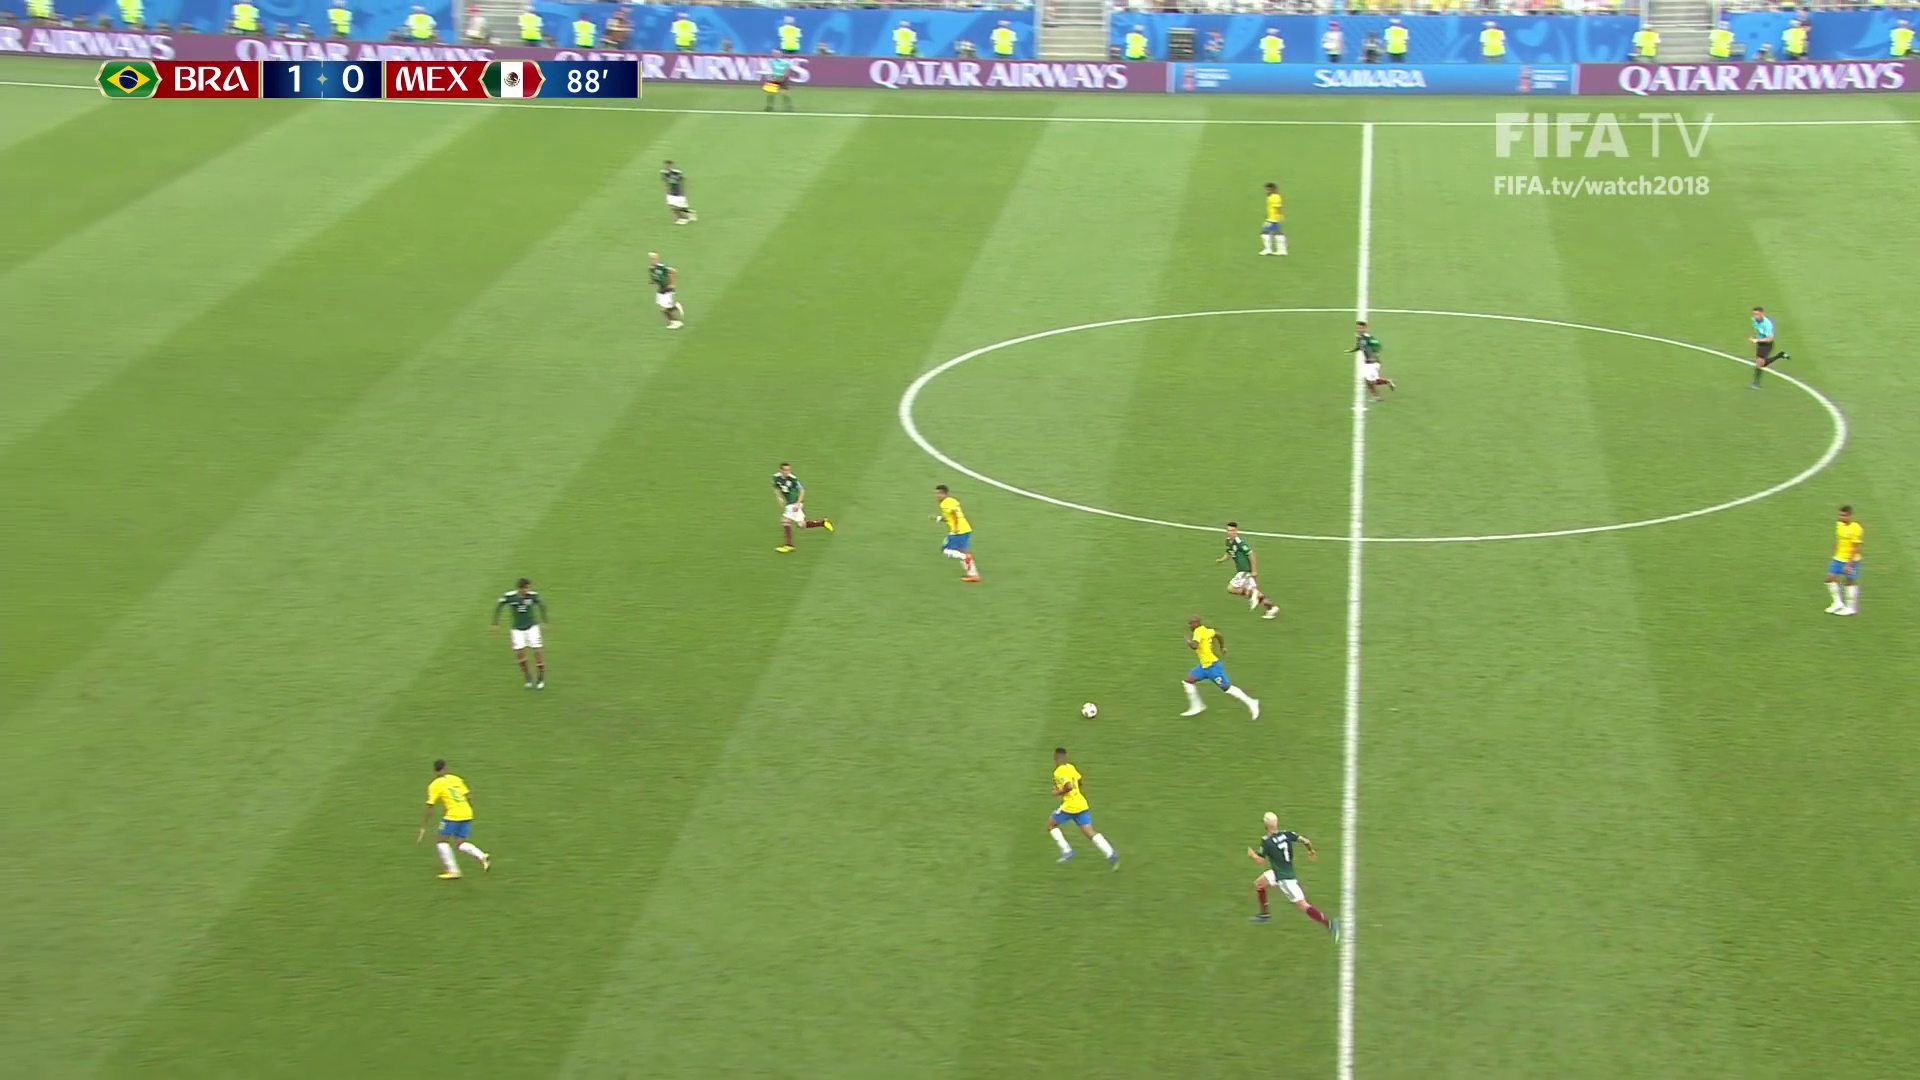ball: (1082, 703, 1096, 718)
person: (1250, 812, 1337, 933), (416, 762, 487, 878), (1177, 619, 1259, 717), (1049, 751, 1117, 867), (495, 579, 549, 691), (1220, 524, 1280, 615), (773, 463, 831, 550), (931, 488, 978, 582), (1349, 323, 1394, 404), (1830, 507, 1863, 613), (646, 251, 686, 327), (1259, 181, 1290, 258), (662, 163, 694, 226)
